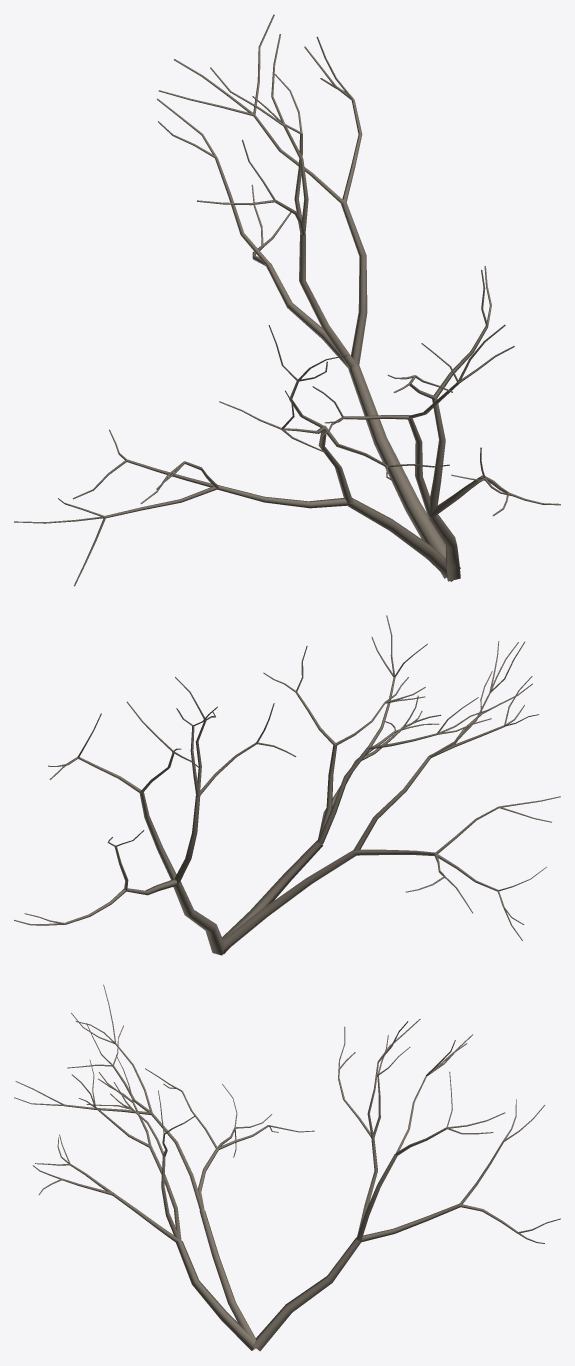
Rendered from desert_brush_1.glb.
The picture shows the model from 3 angles, top to bottom: view 1: azimuth 30°, elevation 25°; view 2: azimuth 150°, elevation 25°; view 3: azimuth 270°, elevation 25°; orthographic projection. The views are drawn at different scales.
Parts seen in each view (by area): view 1: DesertBrush_Twigs; view 2: DesertBrush_Twigs; view 3: DesertBrush_Twigs.
Part boxes in pixels (x1,y1,x2,y2): DesertBrush_Twigs: (14,14,560,586); DesertBrush_Twigs: (14,615,560,955); DesertBrush_Twigs: (14,984,560,1351).
Size of what is drawn, in the model's own units: 0.8396 by 0.7853 by 1.25.
